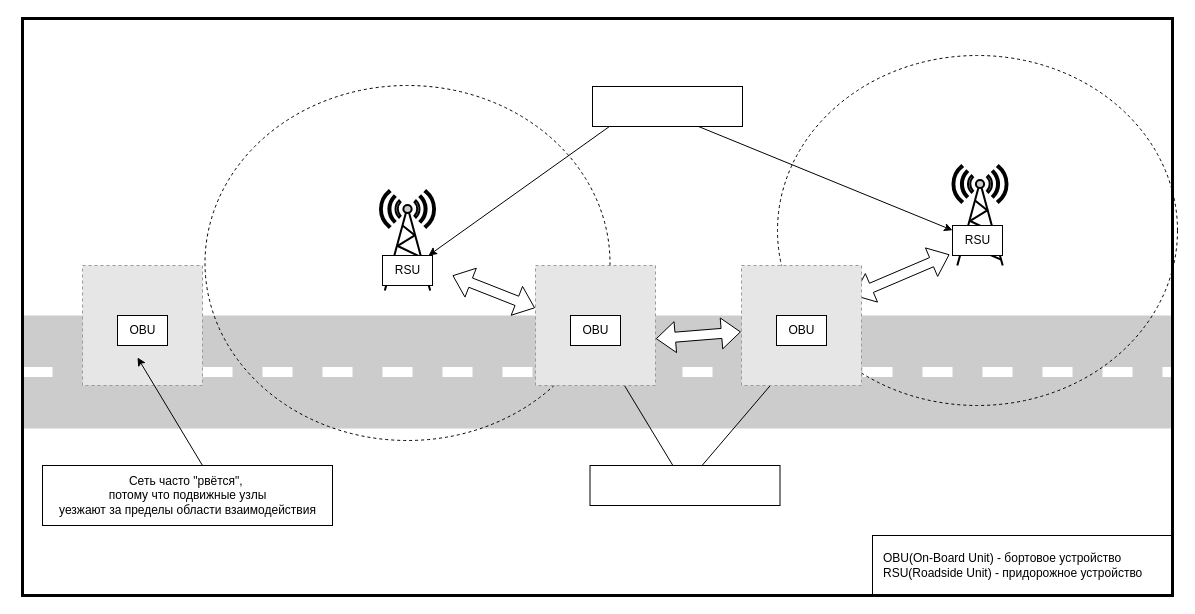
This 1195x614 diagram has some shape labels left out. Grey dashed boxes stand in for pictures. The centre of each missing label's shape, as x and y in pixels:
Передача данных происходит через подвижные узлы: pixel 684 485
Стационарные узлы не связаны напрямую: pixel 667 106
